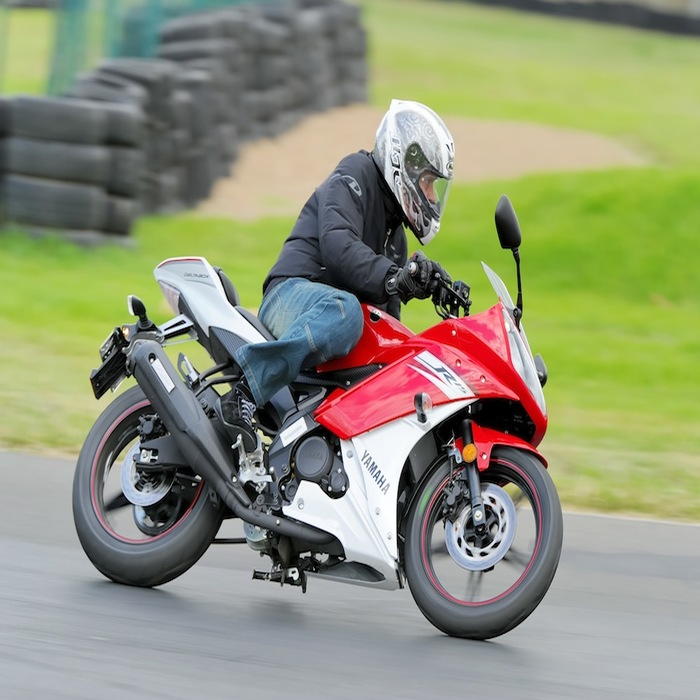h: (366, 95, 461, 252)
